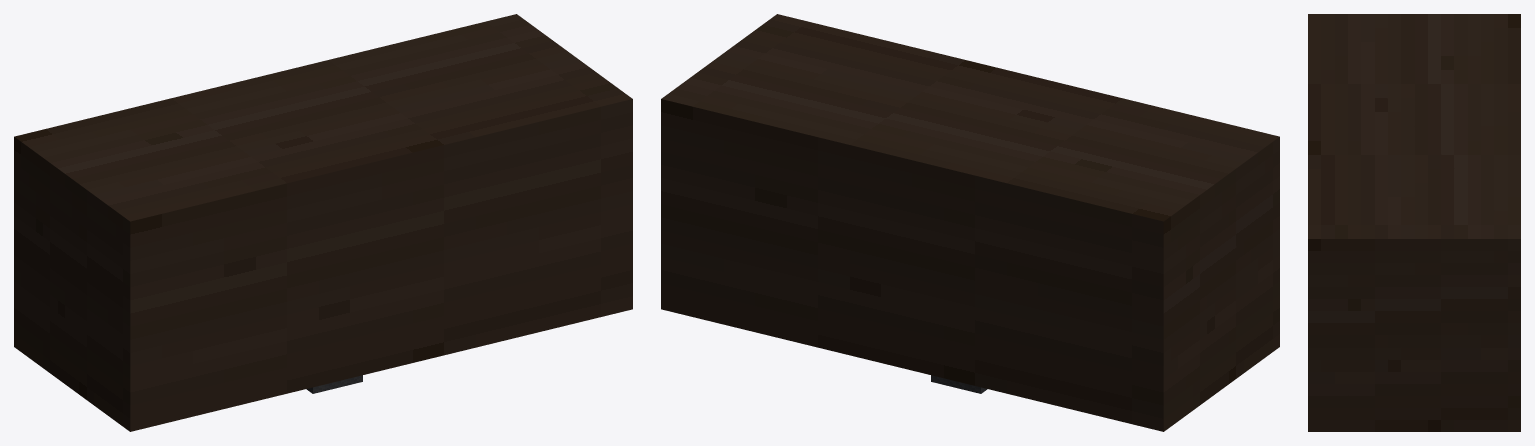
File: arm_i.obj
The picture shows the model from 3 angles, left to right: view 1: azimuth 30°, elevation 25°; view 2: azimuth 150°, elevation 25°; view 3: azimuth 270°, elevation 25°; orthographic projection. The views are drawn at different scales.
Visible parts, largest first — view 1: crossarm_brooks_brown_i; view 2: crossarm_brooks_brown_i; view 3: crossarm_brooks_brown_i.
Boxes of the visible parts, bbox=[...] form: crossarm_brooks_brown_i: bbox=[14, 14, 632, 431]; crossarm_brooks_brown_i: bbox=[661, 14, 1279, 431]; crossarm_brooks_brown_i: bbox=[1308, 14, 1520, 431].
Size of the model in its own units: 0.9375 by 0.4625 by 0.375.
